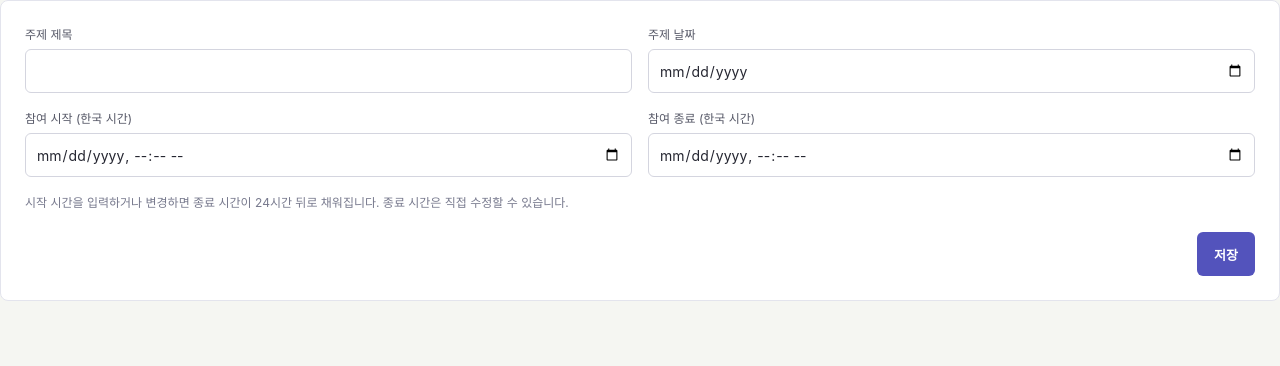
topic participation time input › retains existing end-before-start and topic-date validation
The image size is (1280, 366).
Step 1. Type "하루의 기록" into the field labelled "주제 제목" → (328, 71), box [25,49,632,93]
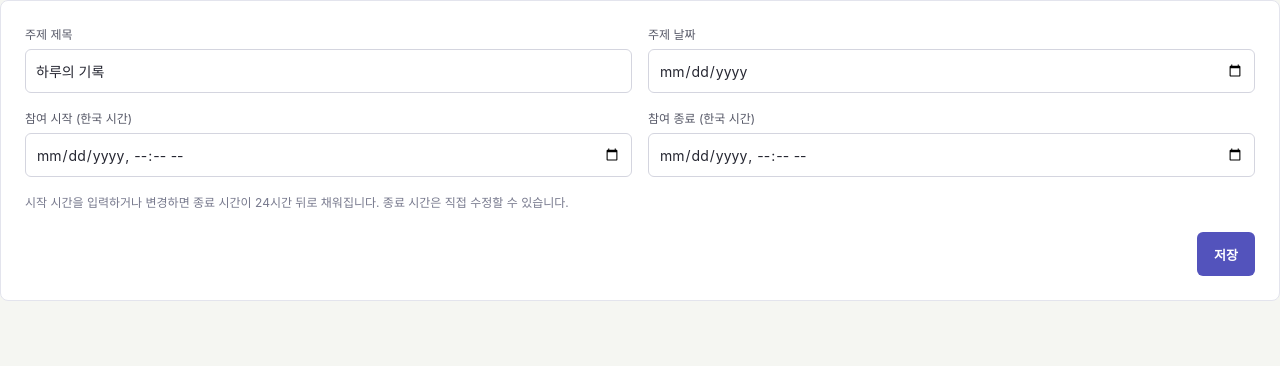
Step 2. Type "2026-12-31" into the date field labelled "주제 날짜" → (952, 71), box [648,49,1255,93]
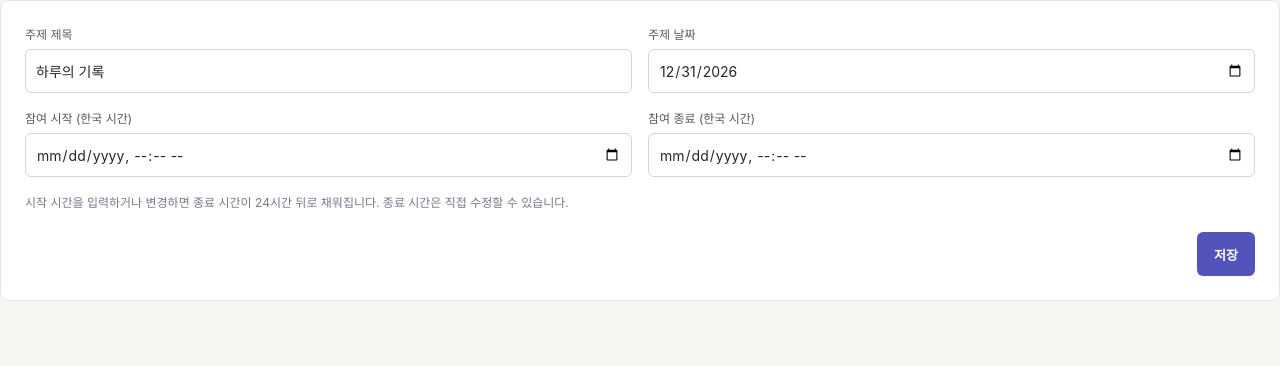
Step 3. Type "2026-12-31T09:30" into the field labelled "참여 시작" → (328, 155), box [25,133,632,177]
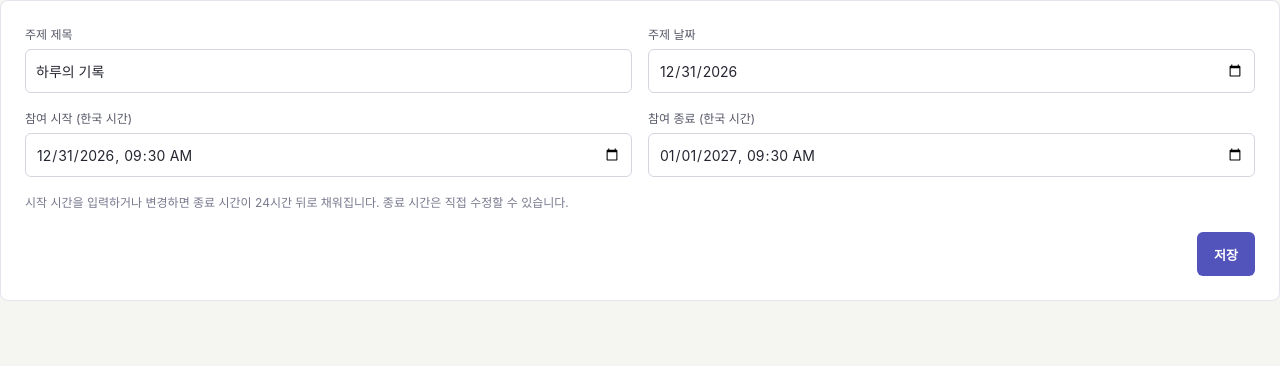
Step 4. Replace the text in the field labelled "참여 종료" with "2026-12-31T09:00" → (952, 155), box [648,133,1255,177]
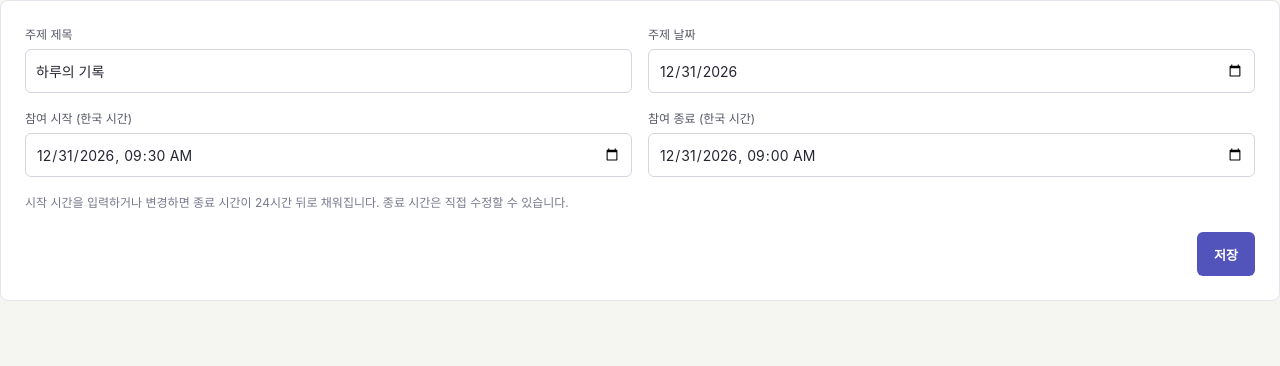
Step 5. Type "2027-01-01" into the date field labelled "주제 날짜" → (952, 71), box [648,49,1255,93]
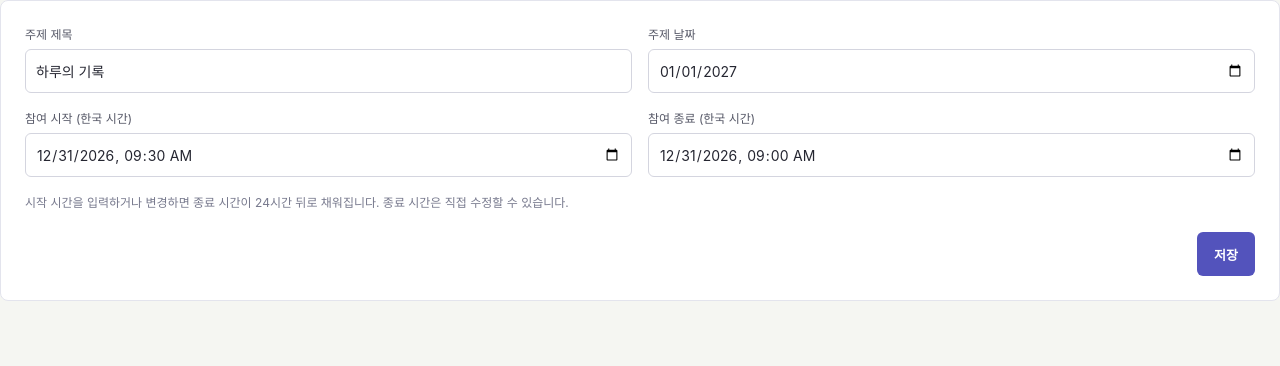
Step 6. Click the button "저장" → (1226, 254), box [1197,232,1255,276]
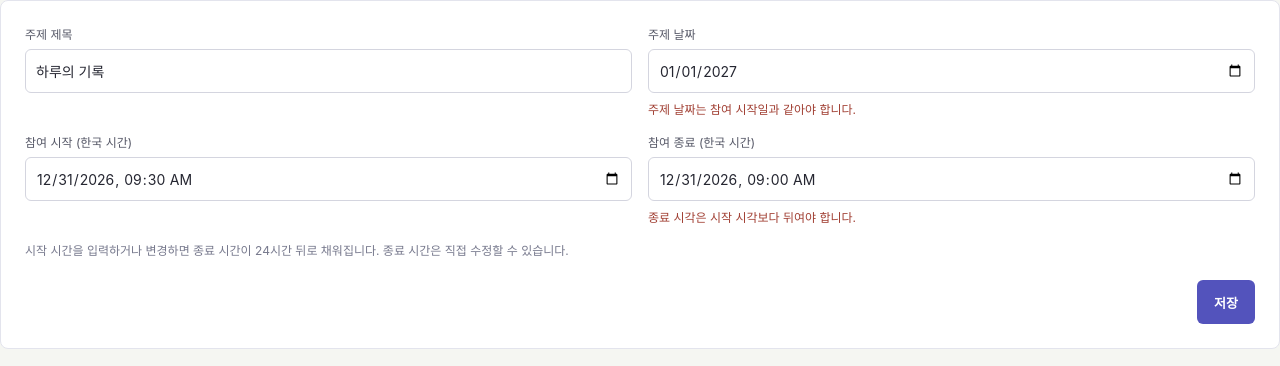
Expected: the text "종료 시각은 시작 시각보다 뒤여야 합니다." is shown, [648,210,856,225]
Expected: the text "주제 날짜는 참여 시작일과 같아야 합니다." is shown, [648,102,856,117]
